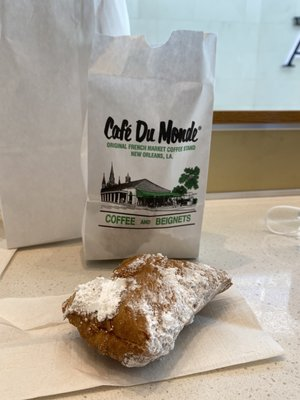pizza: (79, 16, 216, 269)
soup: (60, 253, 234, 368)
